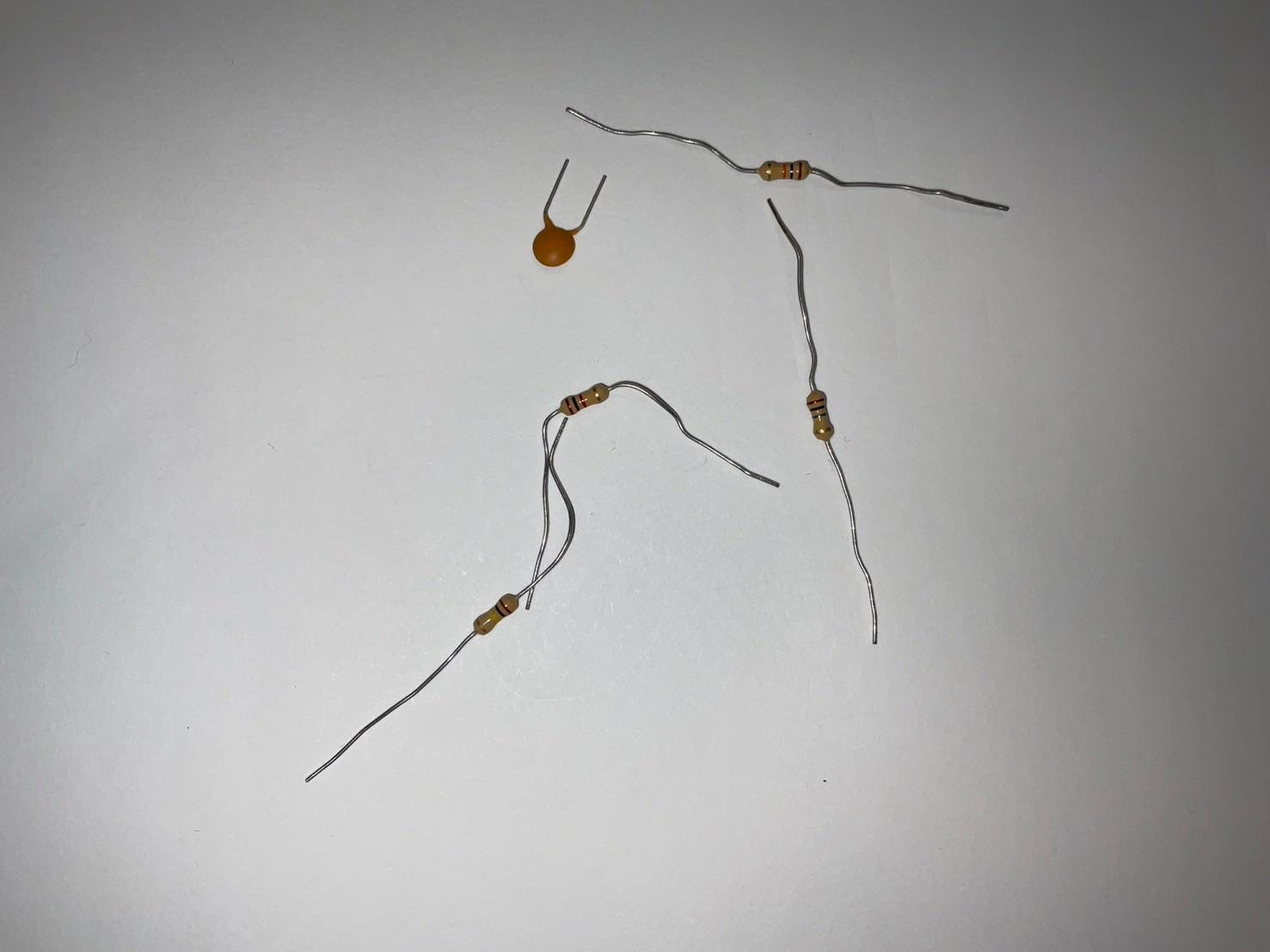resistor: (472, 592, 522, 637), (802, 388, 837, 442), (559, 384, 613, 414), (760, 161, 811, 181)
